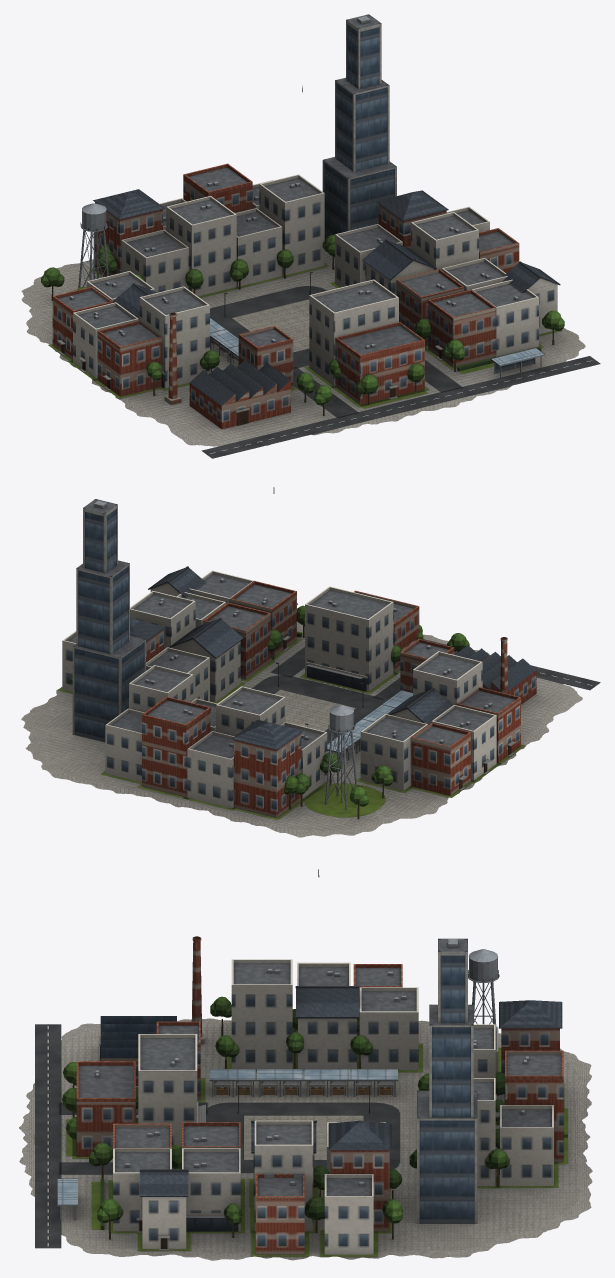
The model's file is modern-town-big-b.glb.
3 views of the same model, one above another, from view 1: azimuth 30°, elevation 25°; view 2: azimuth 150°, elevation 25°; view 3: azimuth 270°, elevation 25° (orthographic). The views are drawn at different scales.
Visible parts, largest first — view 1: LOD0; view 2: LOD0; view 3: LOD0.
Boxes of the visible parts, <box> form: LOD0: <box>21,14,600,458</box>; LOD0: <box>21,487,600,837</box>; LOD0: <box>19,869,592,1260</box>.
Size of what is drawn, in the model's own units: 8.04 by 4.23 by 8.09.
3 materials, 3 textured.
